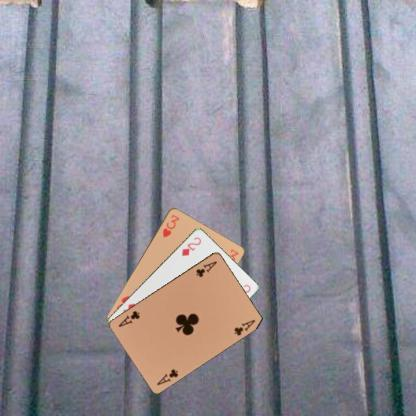2d: (179, 234, 202, 257)
3h: (160, 211, 180, 238)
Ac: (192, 258, 218, 278), (154, 366, 180, 386)
